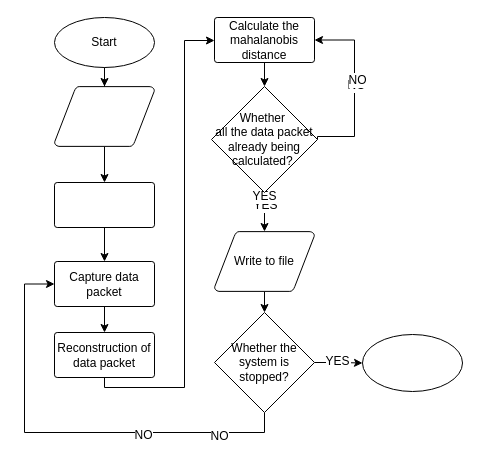
This 480x461 diagram has some shape labels left out. Each missing label, with the centre of its shape:
"Create data training model" belongs at pixel 104 205.
"End" belongs at pixel 412 363.
"Input the data packet" belongs at pixel 104 116.
